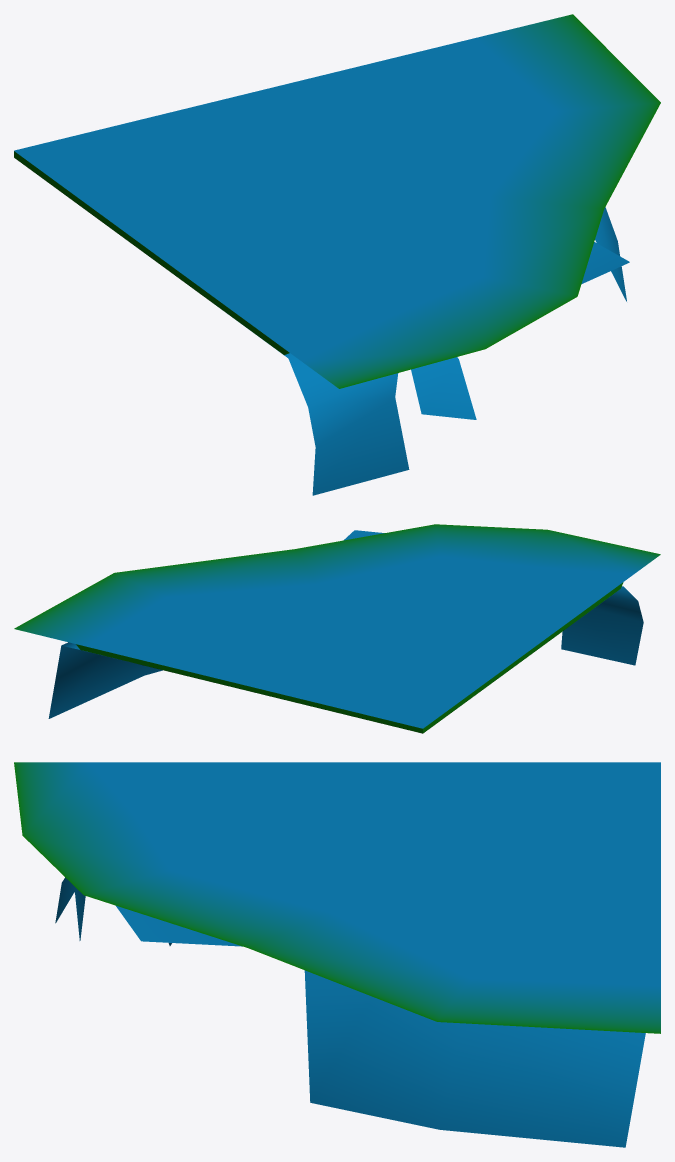
Rendered from DBK_Drywall_Ceiling_End_A.fbx.
3 renders of one model, top to bottom at view 1: azimuth 30°, elevation 25°; view 2: azimuth 150°, elevation 25°; view 3: azimuth 270°, elevation 25°, orthographic. The views are drawn at different scales.
Visible parts, largest first — view 1: DBK_Drywall_Ceiling_End_A; view 2: DBK_Drywall_Ceiling_End_A; view 3: DBK_Drywall_Ceiling_End_A.
Part boxes in pixels (x1,y1,x2,y2): DBK_Drywall_Ceiling_End_A: (14,14,660,495); DBK_Drywall_Ceiling_End_A: (14,524,660,733); DBK_Drywall_Ceiling_End_A: (14,762,660,1147).
Size of what is drawn, in the model's own units: 163 by 36.34 by 164.
